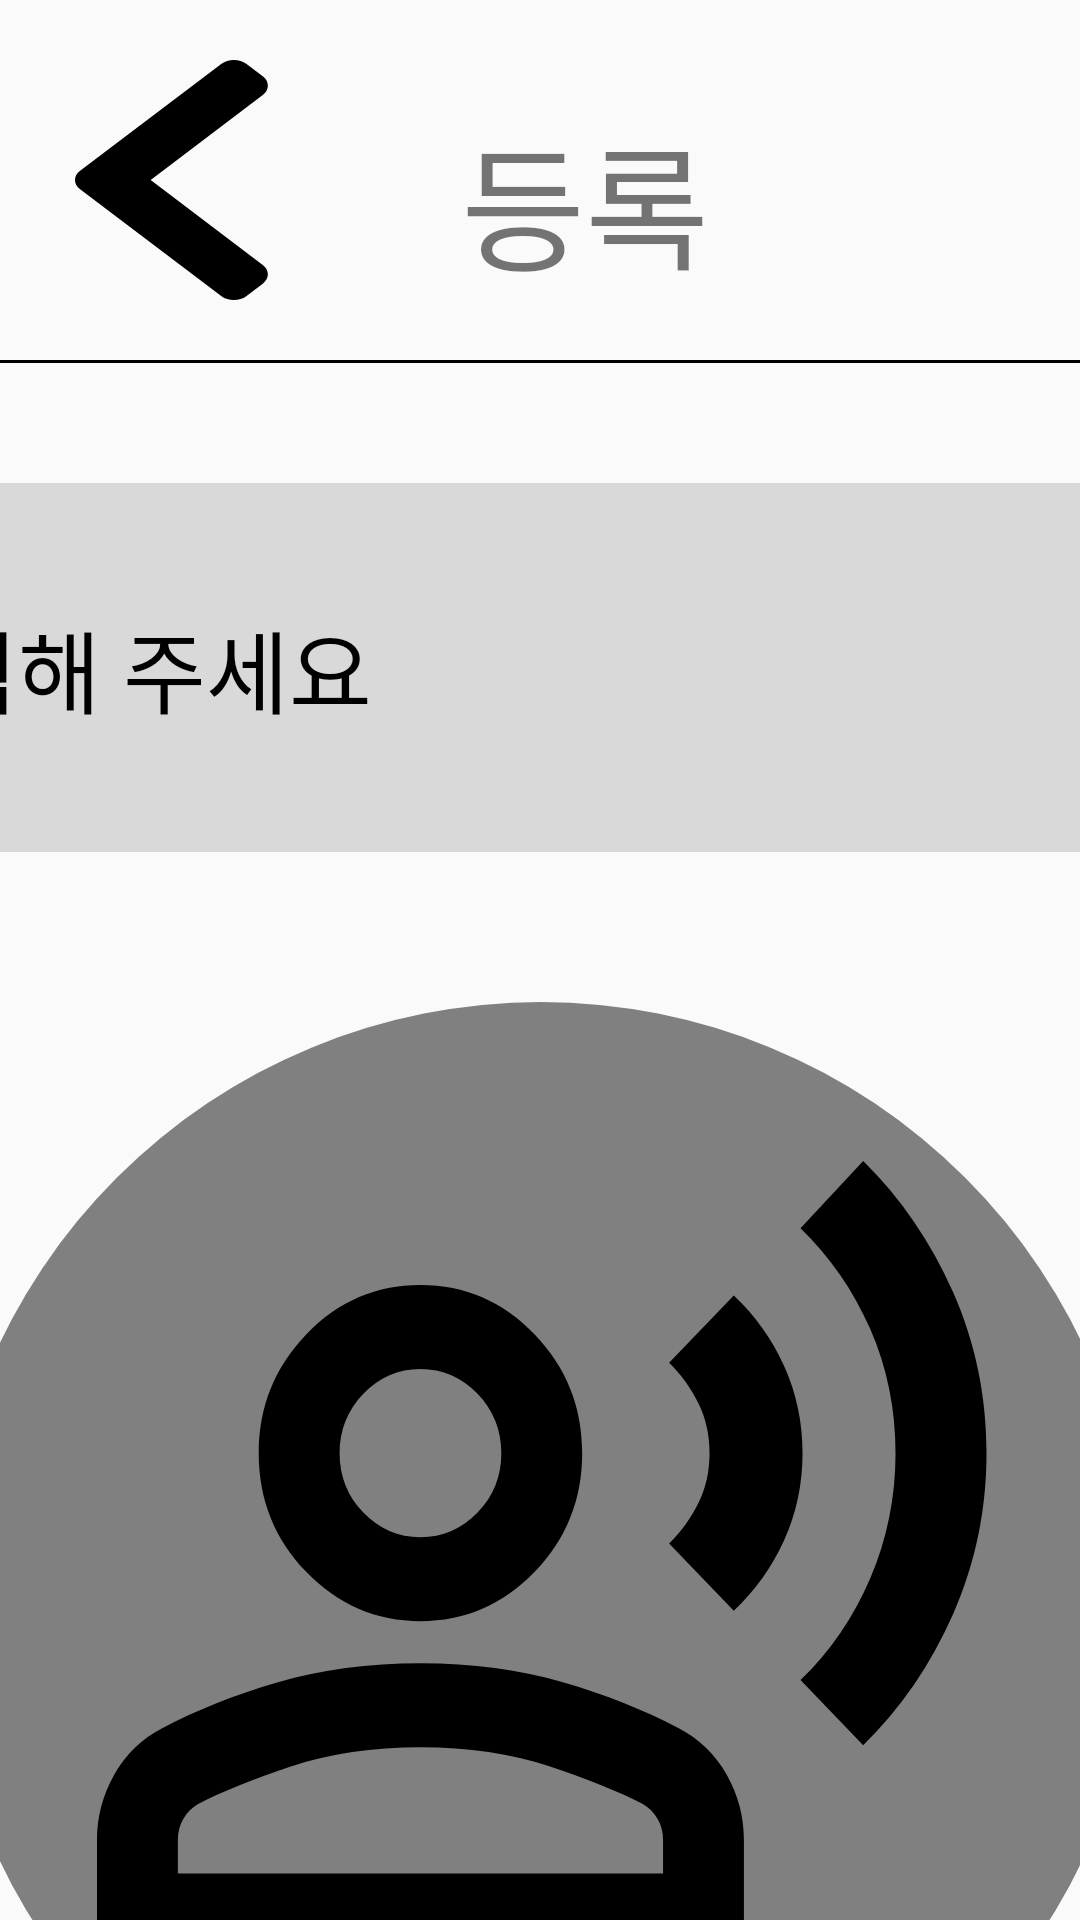

Point at icon controls on the screen. Image size 1080w x 1920h, points as (x=x, y=y).
chevron left: (x=171, y=180)
